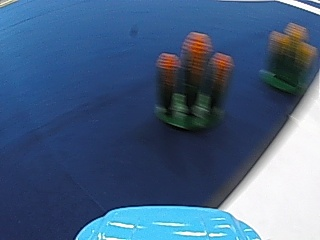corn: (153, 27, 235, 131), (261, 20, 315, 95)
